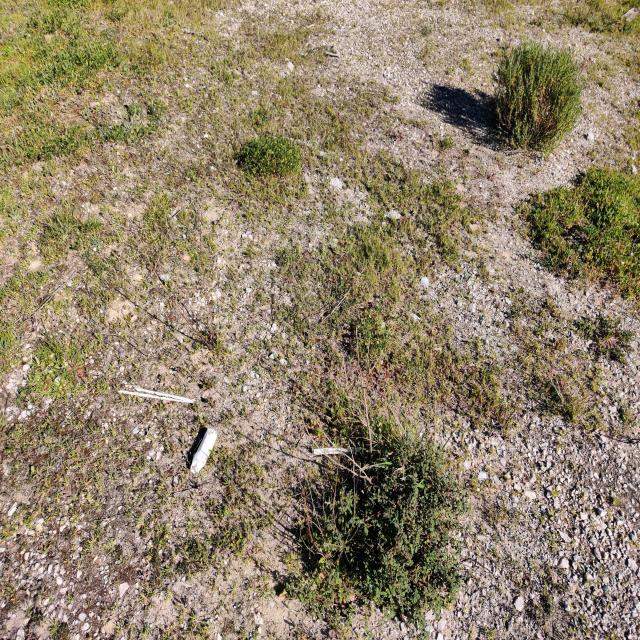litter: (178, 408, 229, 492)
